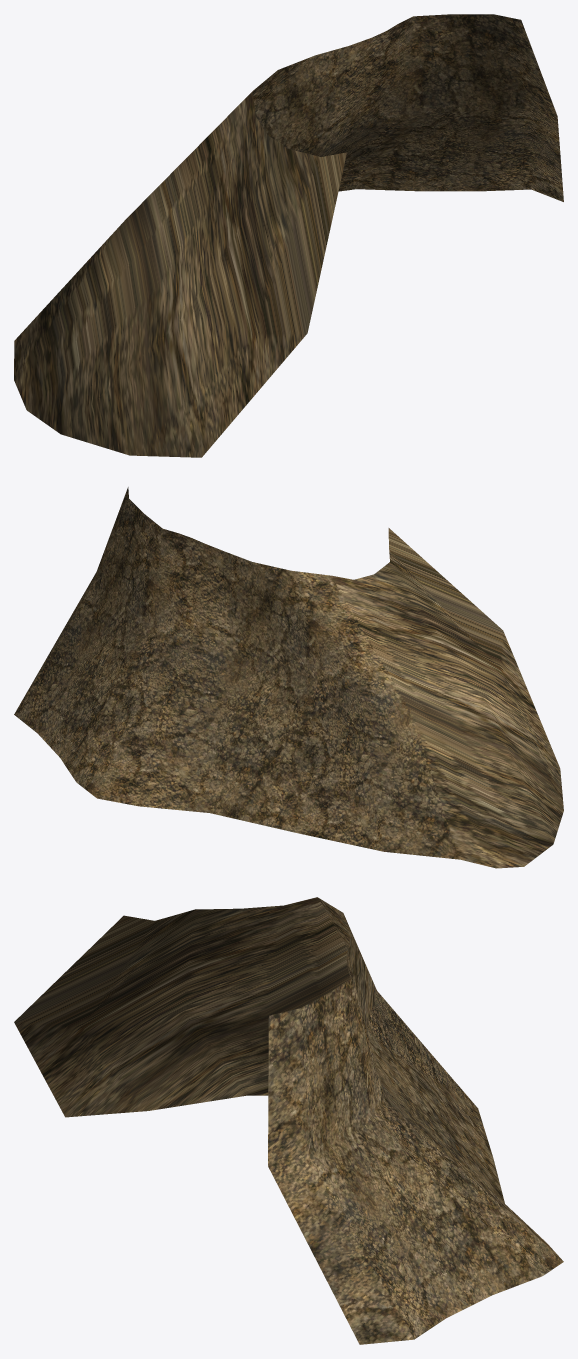
The model's file is CH09_SMAUG_PLAYSURFACE_LONELYMOUNTAIN_LM_PLAYSURFACE18.obj.
3 views of the same model, one above another, from view 1: azimuth 30°, elevation 25°; view 2: azimuth 150°, elevation 25°; view 3: azimuth 270°, elevation 25° (orthographic). The views are drawn at different scales.
Visible parts, largest first — view 1: M_playsurface18; view 2: M_playsurface18; view 3: M_playsurface18.
Part boxes in pixels (<box>): M_playsurface18: <box>14,14,563,457</box>; M_playsurface18: <box>14,487,563,868</box>; M_playsurface18: <box>14,897,563,1344</box>.
Bounding box in the file's own units: 3092 × 1582 × 2181.
